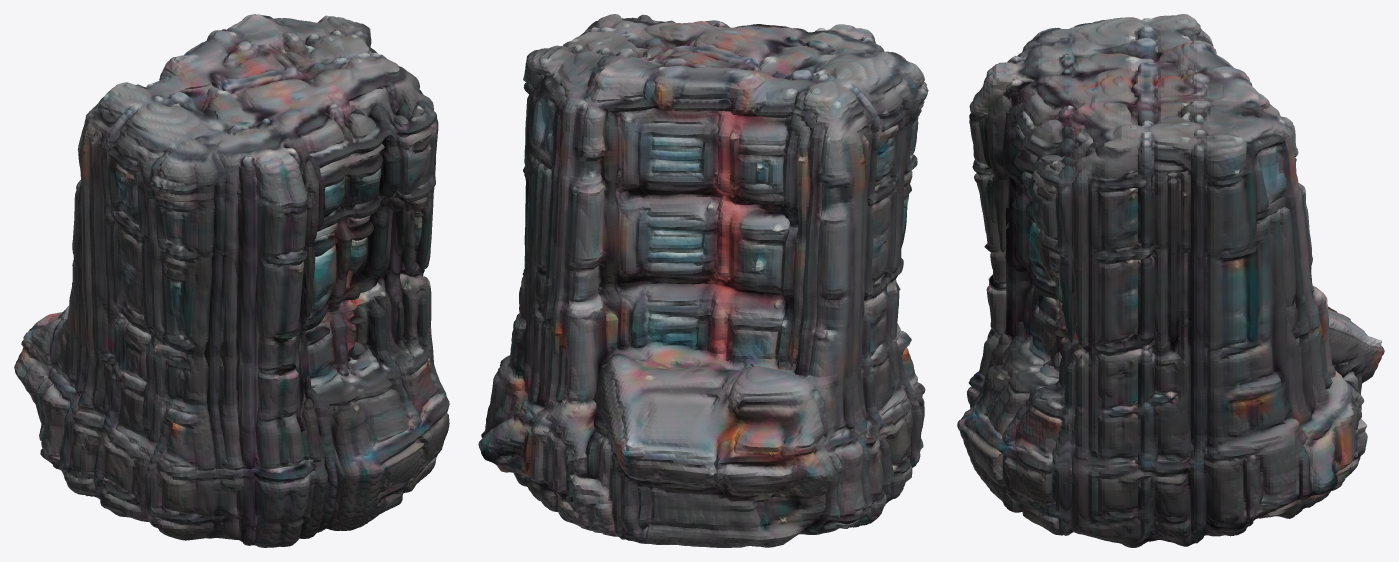
File: ai-server-rack.glb
3 views of the same model, side by side, from view 1: azimuth 30°, elevation 25°; view 2: azimuth 150°, elevation 25°; view 3: azimuth 270°, elevation 25° (orthographic). The views are drawn at different scales.
Parts seen in each view (by area): view 1: world; view 2: world; view 3: world.
Part boxes in pixels (x1=…): world: x1=14, y1=14, x2=449, y2=547; world: x1=478, y1=14, x2=928, y2=547; world: x1=957, y1=14, x2=1384, y2=547.
Bounding box in the file's own units: 0.82 × 0.9635 × 0.8845.
